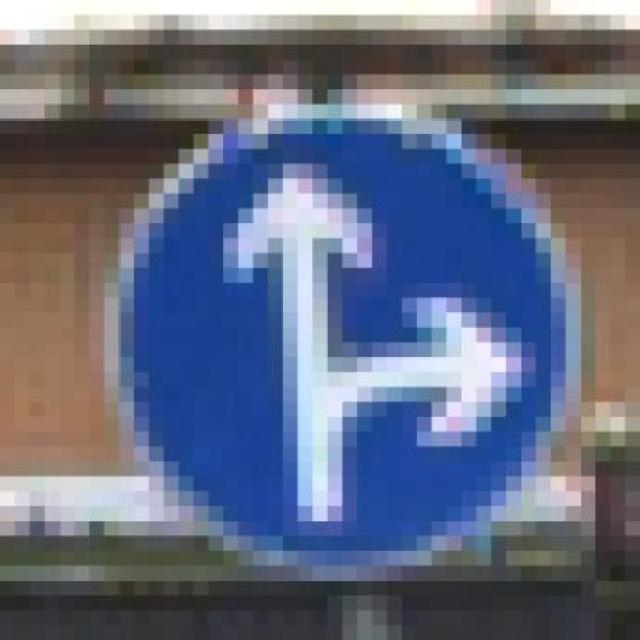Go Straight or Turn Right: (59, 74, 596, 580)
